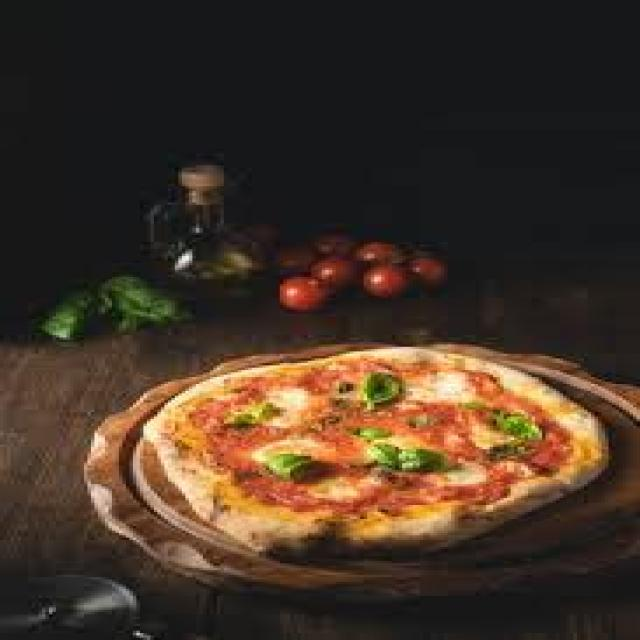피자: (161, 314, 633, 580)
